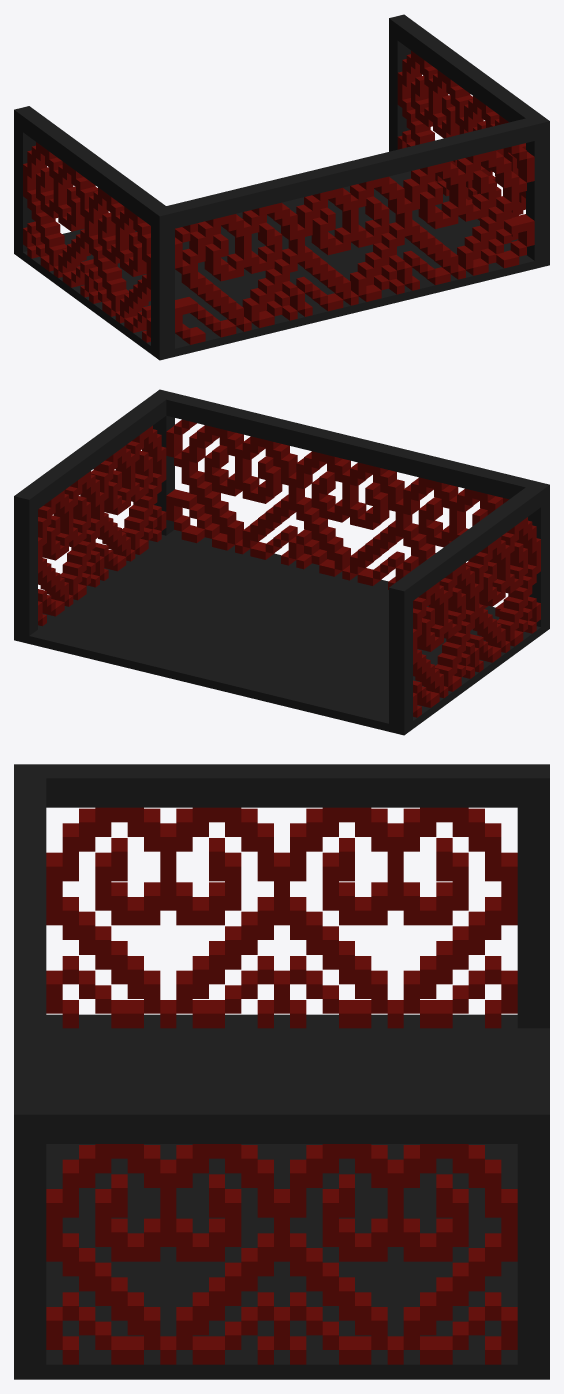
File: balcony_hearts.fbx
The picture shows the model from 3 angles, top to bottom: view 1: azimuth 30°, elevation 25°; view 2: azimuth 150°, elevation 25°; view 3: azimuth 270°, elevation 25°; orthographic projection. The views are drawn at different scales.
Parts seen in each view (by area): view 1: balcony_hearts; view 2: balcony_hearts; view 3: balcony_hearts.
Part boxes in pixels (bbox=[...]): balcony_hearts: bbox=[14, 14, 549, 360]; balcony_hearts: bbox=[14, 389, 549, 735]; balcony_hearts: bbox=[14, 764, 549, 1379].
Size of the model in its own units: 338 by 119 by 219.
